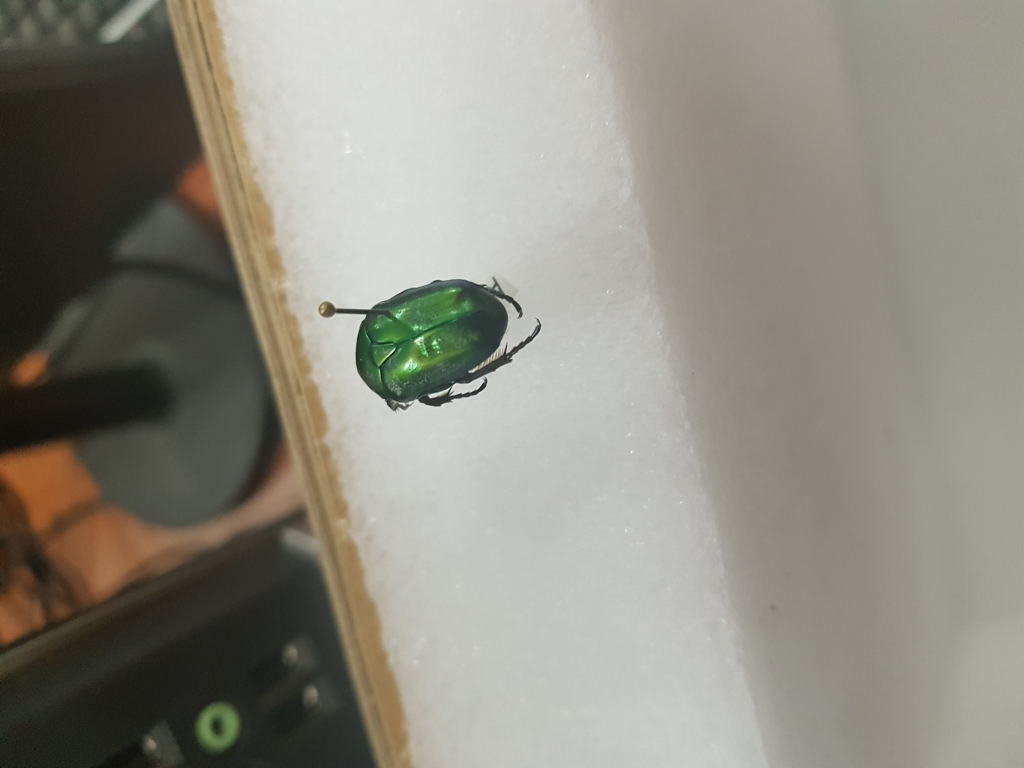Protaetia_cuprea_ignicollis: (352, 271, 546, 414)
